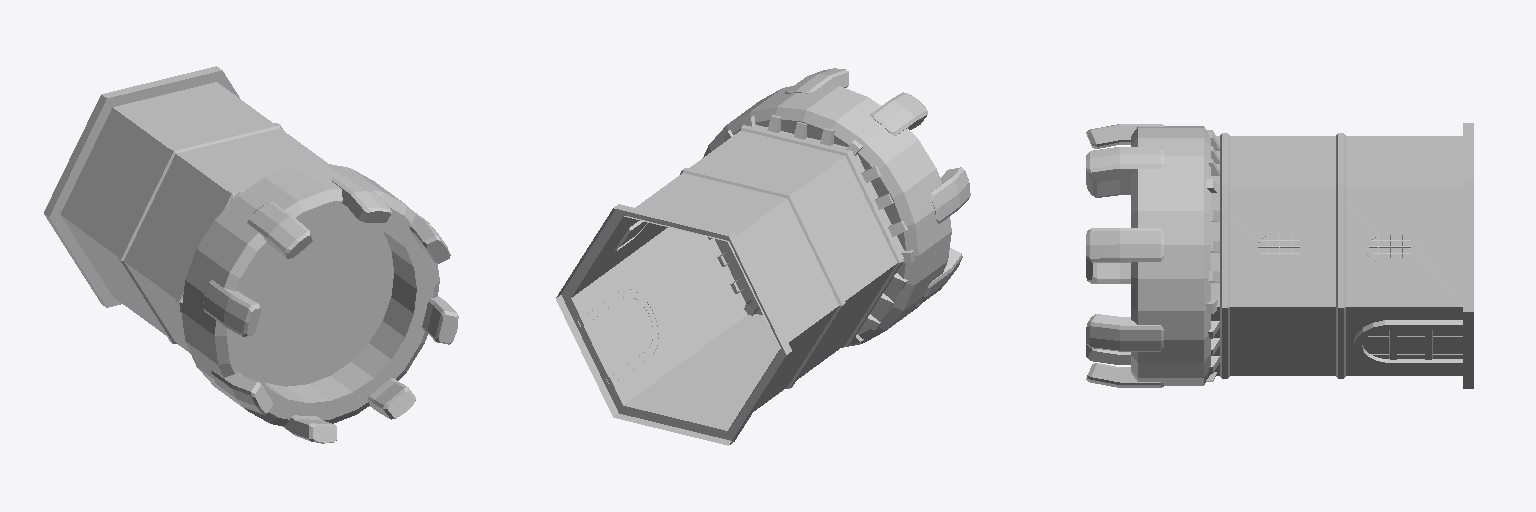
The model's file is Tower.obj.
3 renders of one model, left to right at view 1: azimuth 30°, elevation 25°; view 2: azimuth 150°, elevation 25°; view 3: azimuth 270°, elevation 25°, orthographic.
Visible parts, largest first — view 1: Bas_Destek.015_Cube.025; view 2: Bas_Destek.015_Cube.025; view 3: Bas_Destek.015_Cube.025.
Part boxes in pixels (x1,y1,x2,y2): Bas_Destek.015_Cube.025: (44,66,458,443); Bas_Destek.015_Cube.025: (556,68,970,445); Bas_Destek.015_Cube.025: (1086,123,1473,388).
Bounding box in the file's own units: 0.0529 × 0.0517 × 0.077.